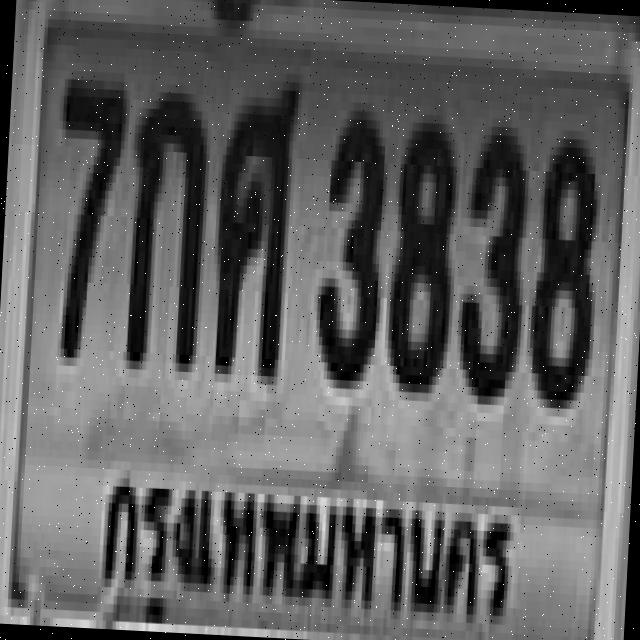10GorGai: (123, 79, 207, 360)
3: (310, 97, 388, 378), (454, 117, 528, 398)
47SorSala: (207, 70, 298, 368)
7: (48, 66, 125, 355)
8: (382, 104, 457, 386), (524, 125, 598, 397)
Bangkok: (93, 457, 523, 637)
